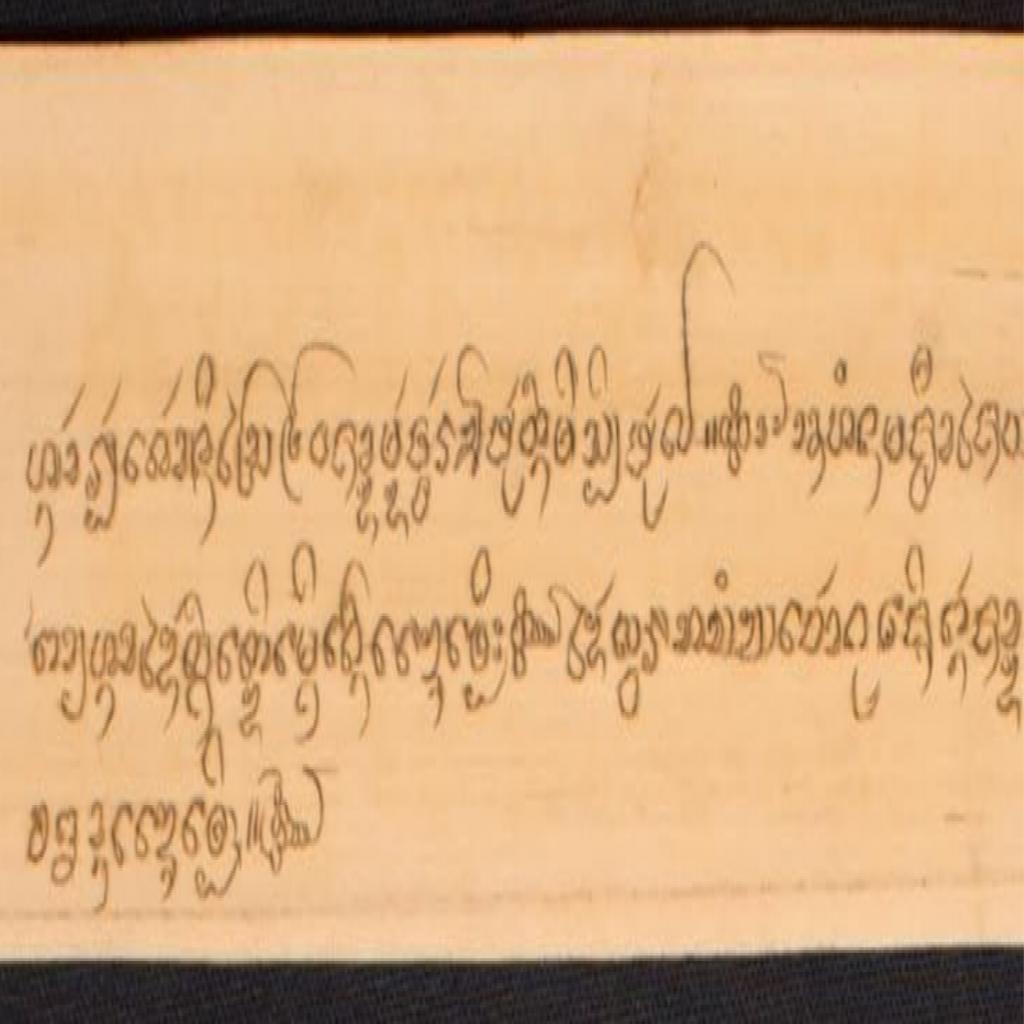LN015: (50, 800, 82, 897)
LN034: (659, 400, 697, 469)
